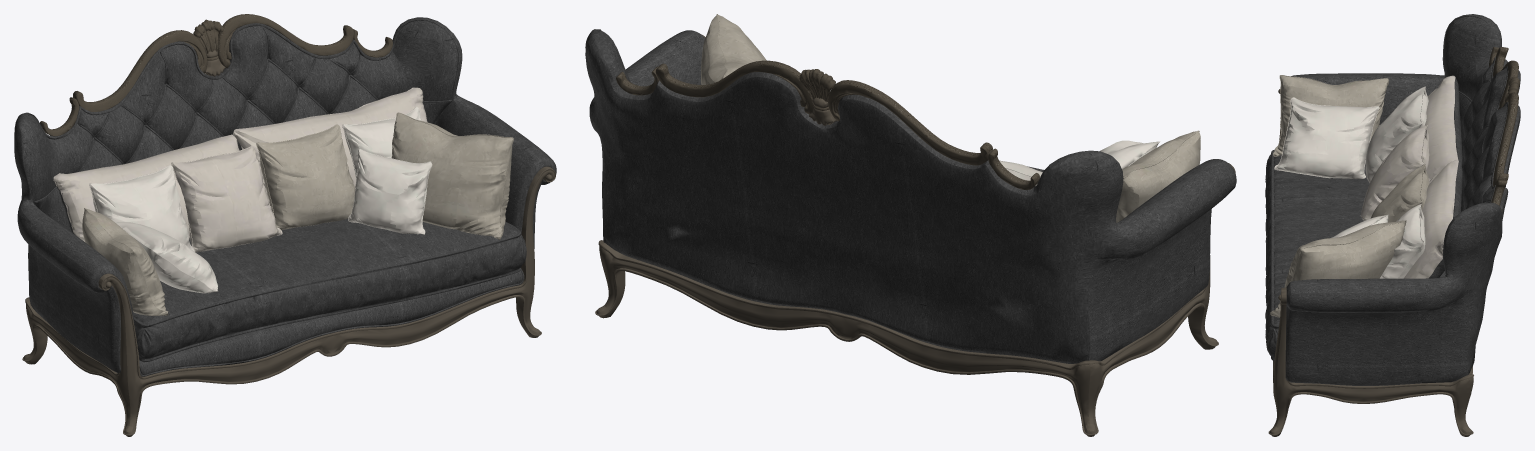
The model's file is sofa.glb.
3 renders of one model, left to right at view 1: azimuth 30°, elevation 25°; view 2: azimuth 150°, elevation 25°; view 3: azimuth 270°, elevation 25°, orthographic. The views are drawn at different scales.
Size of the model in its own units: 1915 by 1067 by 938.
Materials: 5 (5 with a texture image).
